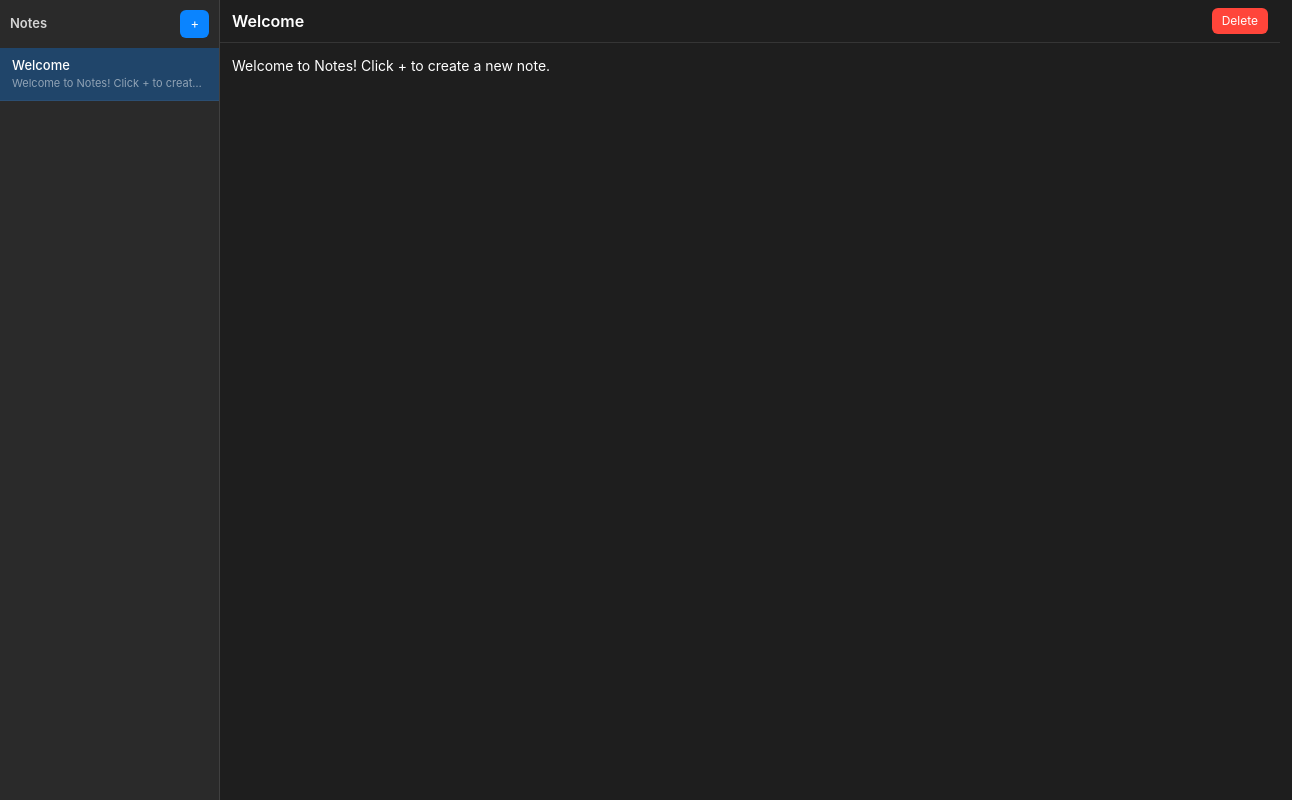
Test: Notes › updates the note title in the sidebar when edited
Replace the text in the field with test id "notes-title-input" with "My Custom Title" at (718, 21), box [232,9,1204,33]
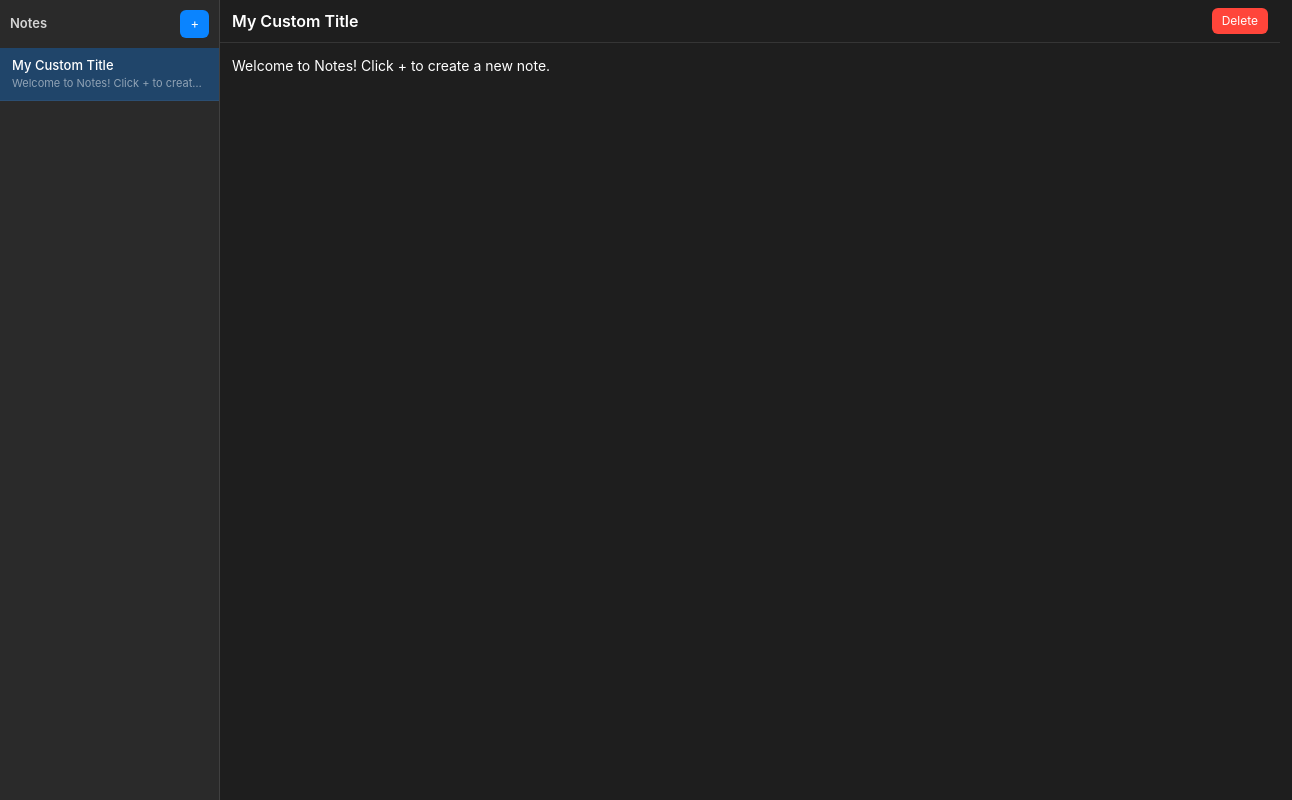
expect the text "My Custom Title" is shown: met, box [12,56,114,72]
